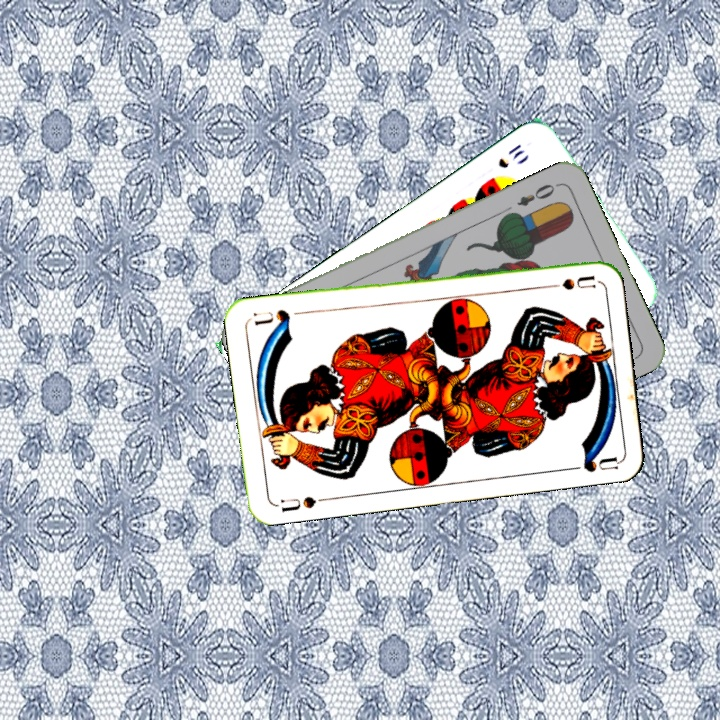EO: (513, 179, 562, 209)
S10: (494, 140, 528, 171)
SU: (537, 271, 597, 292), (277, 492, 318, 515)
